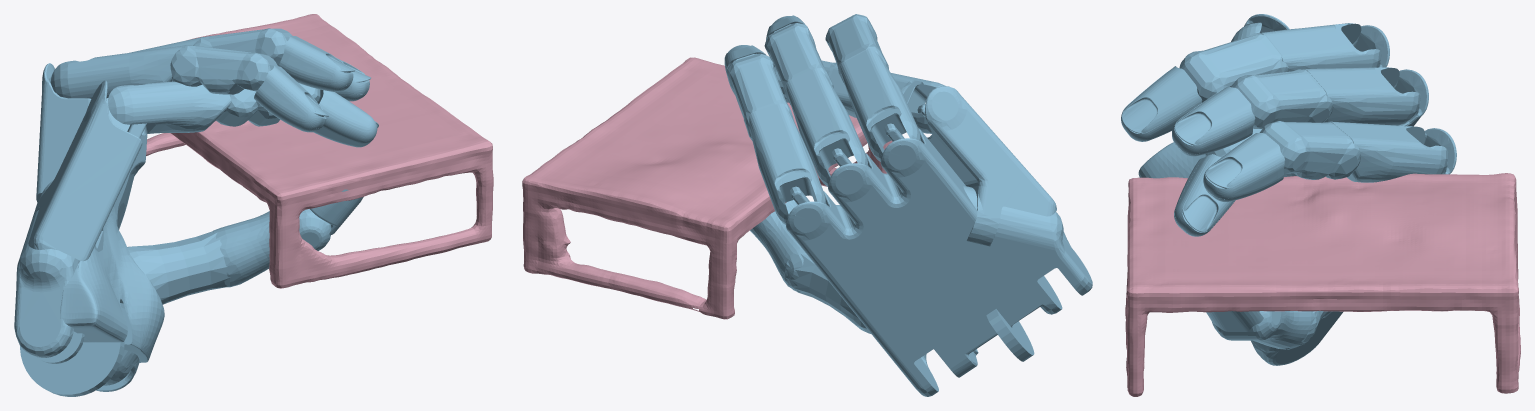
The picture shows the model from 3 angles, left to right: view 1: azimuth 30°, elevation 25°; view 2: azimuth 150°, elevation 25°; view 3: azimuth 270°, elevation 25°; orthographic projection. The views are drawn at different scales.
Parts seen in each view (by area): view 1: hand, world; view 2: hand, world; view 3: world, hand.
Boxes of the visible parts, bbox=[...] form: hand: bbox=[14, 28, 378, 396]; world: bbox=[146, 14, 493, 288]; hand: bbox=[724, 14, 1092, 396]; world: bbox=[522, 57, 892, 319]; world: bbox=[1125, 173, 1520, 396]; hand: bbox=[1121, 14, 1456, 365].
Bounding box in the file's own units: 0.1896 × 0.1369 × 0.1336.
